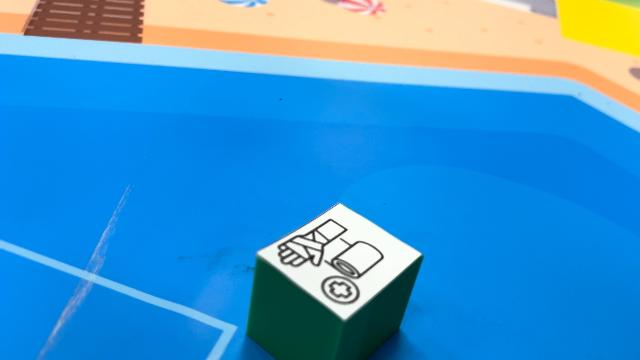bandage: (245, 202, 423, 358)
